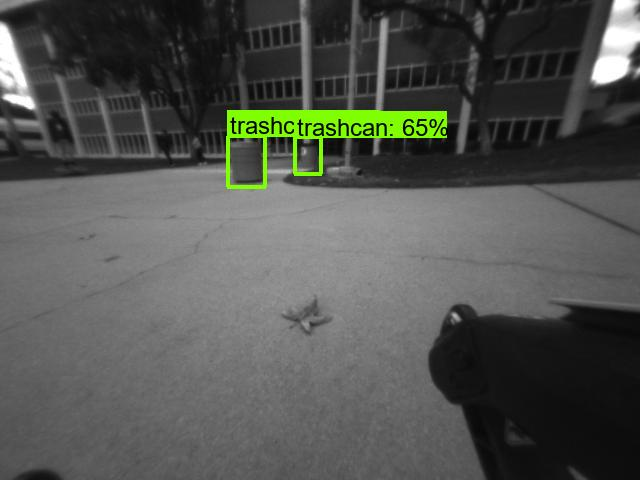trashcan: (225, 136, 264, 189), (298, 144, 322, 168)
